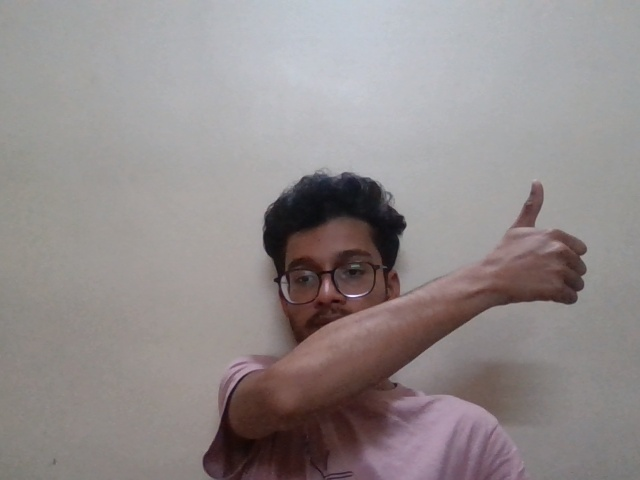yes: (463, 177, 592, 316)
